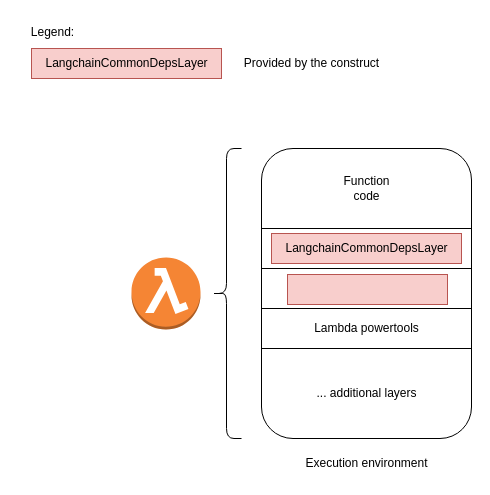
Image size: 490x495. Some labels were removed from this diagram. Each missing label, with the box of its shape:
AWS Lambda function: (130, 256, 200, 330)
LangchainCommonLayer: (286, 274, 448, 304)
